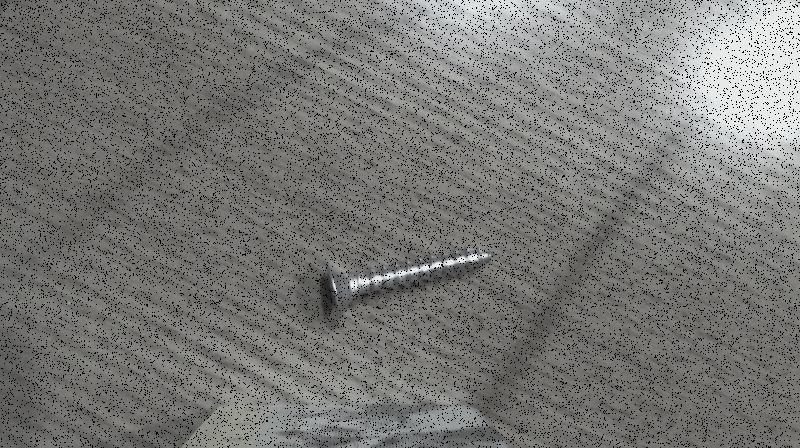S001: (320, 245, 496, 315)
